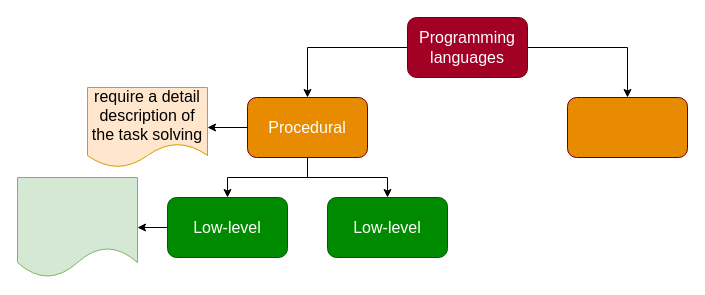
Image size: 705x295. Some labels were removed from this diagram. Each missing label, with the centre of its shape:
focused on specific type of processor Ex: Assembler: pixel 77 227
Non-procedural: pixel 627 127
